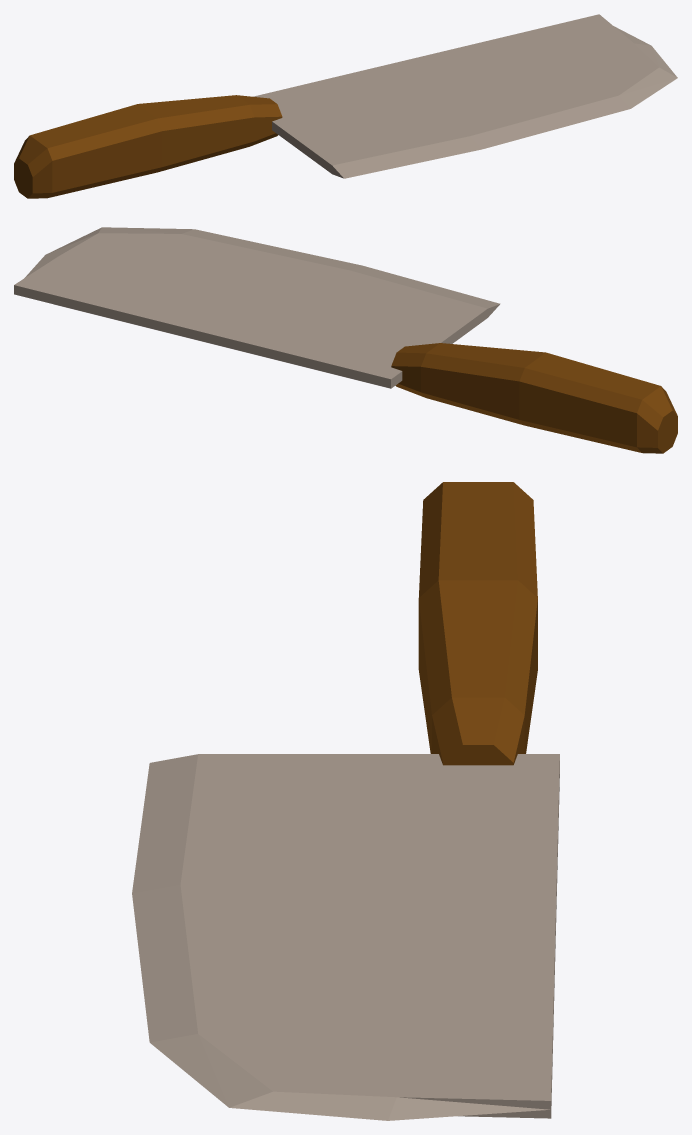
Rendered from SM_Cook_Cleaver_01.fbx.
The picture shows the model from 3 angles, top to bottom: view 1: azimuth 30°, elevation 25°; view 2: azimuth 150°, elevation 25°; view 3: azimuth 270°, elevation 25°; orthographic projection. The views are drawn at different scales.
Visible parts, largest first — view 1: SM_Cook_Cleaver_01; view 2: SM_Cook_Cleaver_01; view 3: SM_Cook_Cleaver_01.
Boxes of the visible parts, <box> form: SM_Cook_Cleaver_01: <box>14,14,677,198</box>; SM_Cook_Cleaver_01: <box>14,227,677,453</box>; SM_Cook_Cleaver_01: <box>132,482,559,1120</box>.
Bounding box in the file's own units: 0.317 × 0.027 × 0.097.
1 material, 1 textured.
